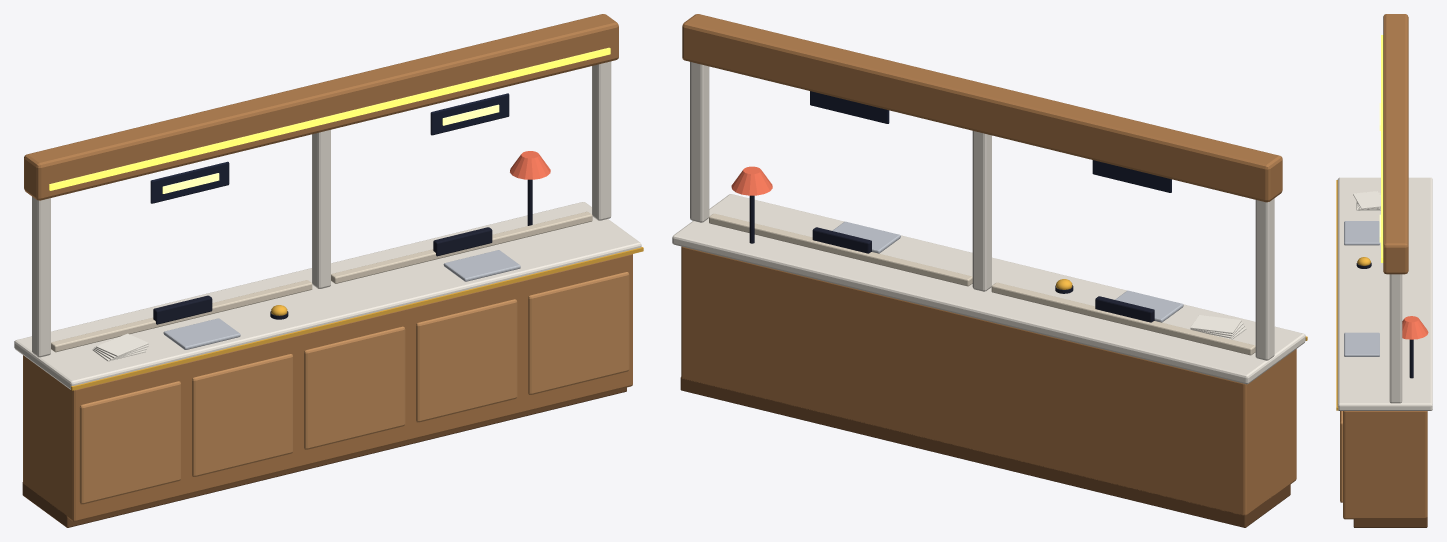
Rendered from bank_counter.glb.
3 views of the same model, side by side, from view 1: azimuth 30°, elevation 25°; view 2: azimuth 150°, elevation 25°; view 3: azimuth 270°, elevation 25° (orthographic). The views are drawn at different scales.
Visible parts, largest first — view 1: body, header, top, panel2, panel0, panel3, panel4, panel1, strip, plinth, post2, post0 (+11 smaller); view 2: body, header, top, plinth, post0, post1, post2, sill0, sill1, sign0, sign1, tray0 (+4 smaller); view 3: top, body, header, post2, tray0, tray1, plinth, strip, lampShade, edge, paper3, panel4 (+1 smaller).
Part boxes in pixels (x1,y1,x2,y2): body: (23, 254, 632, 521); header: (24, 14, 618, 200); top: (14, 202, 641, 389); panel2: (304, 326, 405, 449); panel0: (79, 381, 180, 504); panel3: (416, 299, 517, 422); panel4: (528, 272, 629, 394); panel1: (192, 354, 292, 476); strip: (49, 47, 610, 190); plinth: (22, 387, 626, 527); post2: (592, 61, 611, 220); post0: (32, 196, 50, 357); body: (681, 246, 1296, 515); header: (682, 14, 1282, 202); top: (672, 194, 1305, 384); plinth: (680, 377, 1290, 527); post0: (1255, 198, 1274, 360); post1: (972, 131, 991, 291); post2: (690, 62, 709, 222); sill0: (991, 282, 1255, 355); sill1: (709, 213, 972, 286); sign0: (1092, 160, 1171, 192); sign1: (810, 91, 889, 123); tray0: (1115, 290, 1183, 322); top: (1337, 177, 1432, 410); body: (1343, 411, 1427, 519); header: (1383, 14, 1408, 274); post2: (1389, 274, 1402, 403); tray0: (1344, 221, 1379, 245); tray1: (1344, 332, 1379, 356); plinth: (1353, 517, 1427, 527); strip: (1381, 35, 1383, 262); lampShade: (1402, 316, 1428, 339); edge: (1336, 180, 1338, 410); paper3: (1353, 191, 1380, 209); panel4: (1340, 411, 1342, 502).
Bounding box in the file's own units: 5.2 × 3.01 × 0.915.
